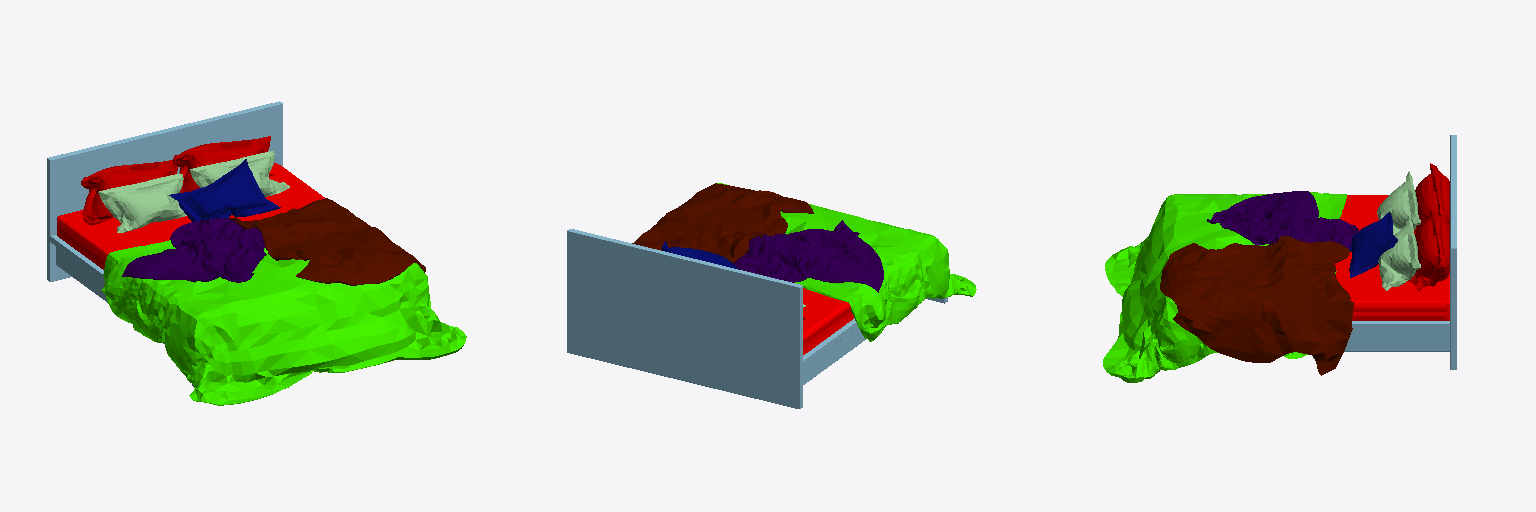
The model's file is bed.obj.
3 renders of one model, left to right at view 1: azimuth 30°, elevation 25°; view 2: azimuth 150°, elevation 25°; view 3: azimuth 270°, elevation 25°, orthographic.
Parts seen in each view (by area): view 1: Bed_sheet_1, Bed1, bed_sheet_3, bed_sheet_2, Bed_sheet, Pillow3, Pillow2, PILLOW1, PILLOW002, Pillow004; view 2: Bed1, Bed_sheet_1, bed_sheet_3, bed_sheet_2, Bed_sheet, Pillow3; view 3: bed_sheet_3, Bed_sheet_1, Bed_sheet, bed_sheet_2, Bed1, PILLOW002, Pillow004, Pillow3, PILLOW1, Pillow2.
Boxes of the visible parts, x1=… form: Bed_sheet_1: x1=101, y1=240, x2=466, y2=405; Bed1: x1=47, y1=101, x2=282, y2=386; bed_sheet_3: x1=229, y1=198, x2=425, y2=285; bed_sheet_2: x1=122, y1=218, x2=266, y2=282; Bed_sheet: x1=57, y1=163, x2=324, y2=269; Pillow3: x1=169, y1=159, x2=280, y2=221; Pillow2: x1=98, y1=173, x2=186, y2=232; PILLOW1: x1=81, y1=160, x2=178, y2=224; PILLOW002: x1=173, y1=136, x2=273, y2=192; Pillow004: x1=190, y1=151, x2=289, y2=196; Bed1: x1=567, y1=229, x2=947, y2=408; Bed_sheet_1: x1=717, y1=183, x2=976, y2=341; bed_sheet_3: x1=632, y1=183, x2=813, y2=263; bed_sheet_2: x1=734, y1=220, x2=883, y2=292; Bed_sheet: x1=803, y1=288, x2=853, y2=354; Pillow3: x1=662, y1=241, x2=738, y2=269; bed_sheet_3: x1=1160, y1=236, x2=1353, y2=375; Bed_sheet_1: x1=1103, y1=192, x2=1346, y2=382; Bed_sheet: x1=1335, y1=195, x2=1449, y2=320; bed_sheet_2: x1=1207, y1=191, x2=1358, y2=248; Bed1: x1=1344, y1=135, x2=1456, y2=369; PILLOW002: x1=1408, y1=208, x2=1449, y2=291; Pillow004: x1=1378, y1=216, x2=1420, y2=290; Pillow3: x1=1349, y1=212, x2=1397, y2=277; PILLOW1: x1=1414, y1=163, x2=1449, y2=233; Pillow2: x1=1377, y1=171, x2=1420, y2=234.
Bounding box in the file's own units: 232 × 103 × 263.